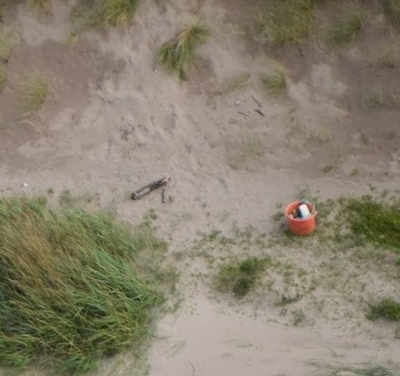scattered_barrel: (114, 165, 332, 247)
